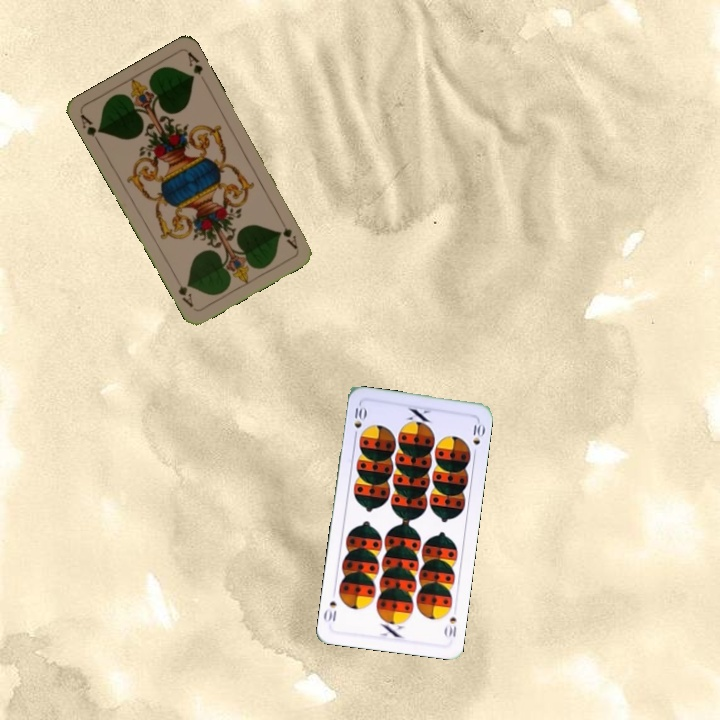GA: (76, 110, 104, 147), (277, 214, 300, 252)
S10: (350, 401, 368, 441), (441, 613, 459, 640)
